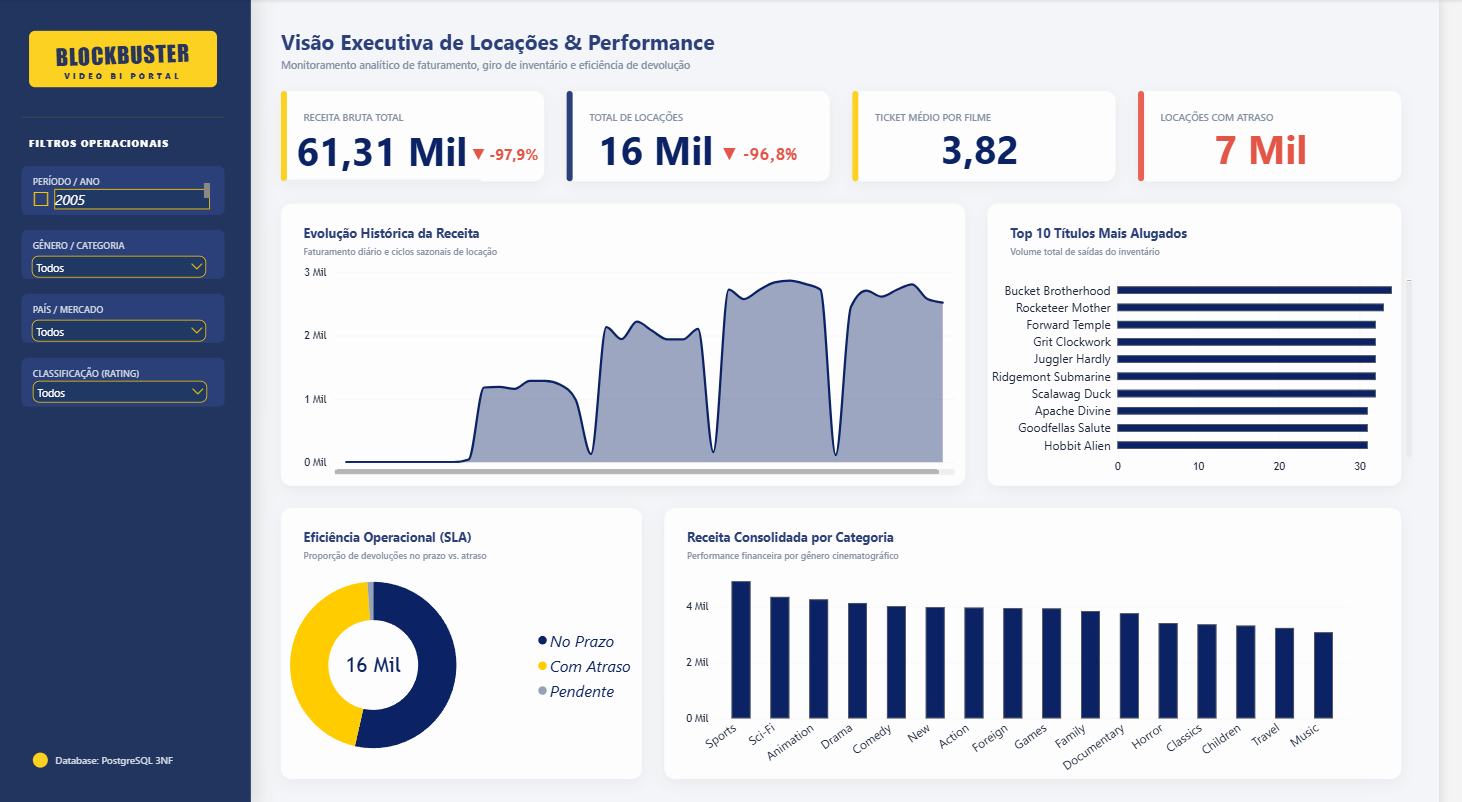

The dashboard page shown, as its layout file describes it:
{"tool":"powerbi","page":{"name":"Main","canvas":[1920,1080],"ordinal":0},"visuals":[{"type":"cardVisual","fields":{"Data":["_Medidas.Receita Total"]},"box":[395.7,124.3,262.9,147.1],"z":0},{"type":"cardVisual","fields":{"Data":["_Medidas.Total Alugueis"]},"box":[768.8,102.4,220.8,196.8],"z":1000},{"type":"cardVisual","fields":{"Data":["_Medidas.Total Atrasos"]},"box":[1550.8,85.1,266,226.1],"z":2000},{"type":"cardVisual","fields":{"Data":["_Medidas.Ticket Medio"]},"box":[1177.1,85.1,266,226.1],"z":3000},{"type":"lineChart","fields":{"Category":["d_calendario.Mes_Ano"],"Y":["_Medidas.Receita Total"]},"box":[395,340.5,889.8,308.6],"z":4000},{"type":"barChart","fields":{"Category":["v_dim_filme.titulo"],"Y":["_Medidas.Total Alugueis"]},"box":[1248.9,351.1,651.7,297.9],"z":5000},{"type":"donutChart","fields":{"Category":["v_fato_locacao.status_devolucao"],"Y":["_Medidas.Total Alugueis"]},"box":[372.4,747.5,468.2,276.7],"z":6000},{"type":"clusteredColumnChart","fields":{"Category":["v_dim_filme.categoria"],"Y":["_Medidas.Receita Total"]},"box":[903.1,747.5,913.7,315.2],"z":7000},{"type":"slicer","fields":{"Values":["v_dim_filme.classificacao_indicativa"]},"box":[45.2,502.8,242.1,34.6],"z":8000},{"type":"slicer","fields":{"Values":["v_dim_cliente.pais"]},"box":[43.9,421.6,242.1,65.2],"z":9000},{"type":"slicer","fields":{"Values":["v_fato_locacao.Ano_Locacao"]},"box":[43.9,244.7,242.1,39.9],"z":10000},{"type":"slicer","fields":{"Values":["v_dim_filme.categoria"]},"box":[43.9,336.5,242.1,65.2],"z":11000},{"type":"cardVisual","fields":{"Data":["_Medidas.Indicador_Receita"]},"box":[624.3,142.9,120,121.4],"z":12000},{"type":"cardVisual","fields":{"Data":["_Medidas.Indicador_Locacoes"]},"box":[960,140,120,121.4],"z":13000},{"type":"actionButton","box":[59.9,747.5,212.8,105.1],"z":14000}]}

Visuals, with their boxes in screenshot pixels (x1, y1, x2, y2), scaled from the page's 1920x1080 canvas onto the 1462x802 screenshot:
cardVisual - _Medidas.Receita Total: select_region(301, 92, 501, 202)
cardVisual - _Medidas.Total Alugueis: select_region(585, 76, 754, 222)
cardVisual - _Medidas.Total Atrasos: select_region(1181, 63, 1383, 231)
cardVisual - _Medidas.Ticket Medio: select_region(896, 63, 1099, 231)
lineChart - d_calendario.Mes_Ano x _Medidas.Receita Total: select_region(301, 253, 978, 482)
barChart - v_dim_filme.titulo x _Medidas.Total Alugueis: select_region(951, 261, 1447, 482)
donutChart - v_fato_locacao.status_devolucao x _Medidas.Total Alugueis: select_region(284, 555, 640, 761)
clusteredColumnChart - v_dim_filme.categoria x _Medidas.Receita Total: select_region(688, 555, 1383, 789)
slicer - v_dim_filme.classificacao_indicativa: select_region(34, 373, 219, 399)
slicer - v_dim_cliente.pais: select_region(33, 313, 218, 361)
slicer - v_fato_locacao.Ano_Locacao: select_region(33, 182, 218, 211)
slicer - v_dim_filme.categoria: select_region(33, 250, 218, 298)
cardVisual - _Medidas.Indicador_Receita: select_region(475, 106, 567, 196)
cardVisual - _Medidas.Indicador_Locacoes: select_region(731, 104, 822, 194)
actionButton: select_region(46, 555, 208, 633)
